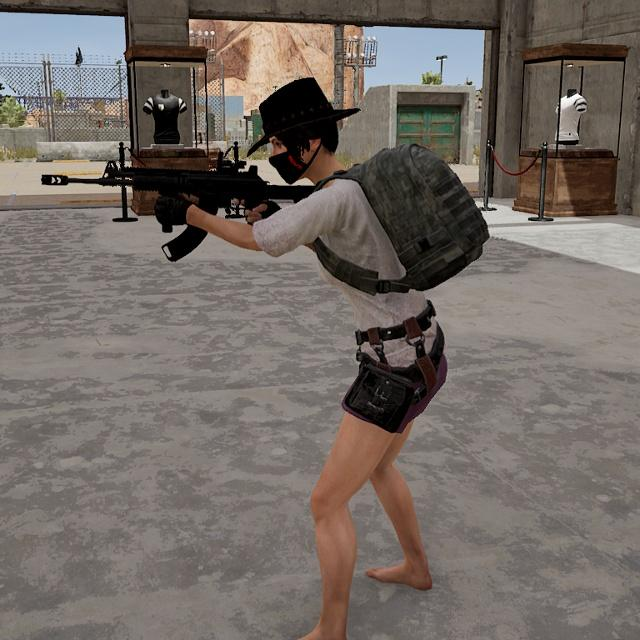head: (260, 77, 343, 190)
people: (246, 75, 456, 640)
